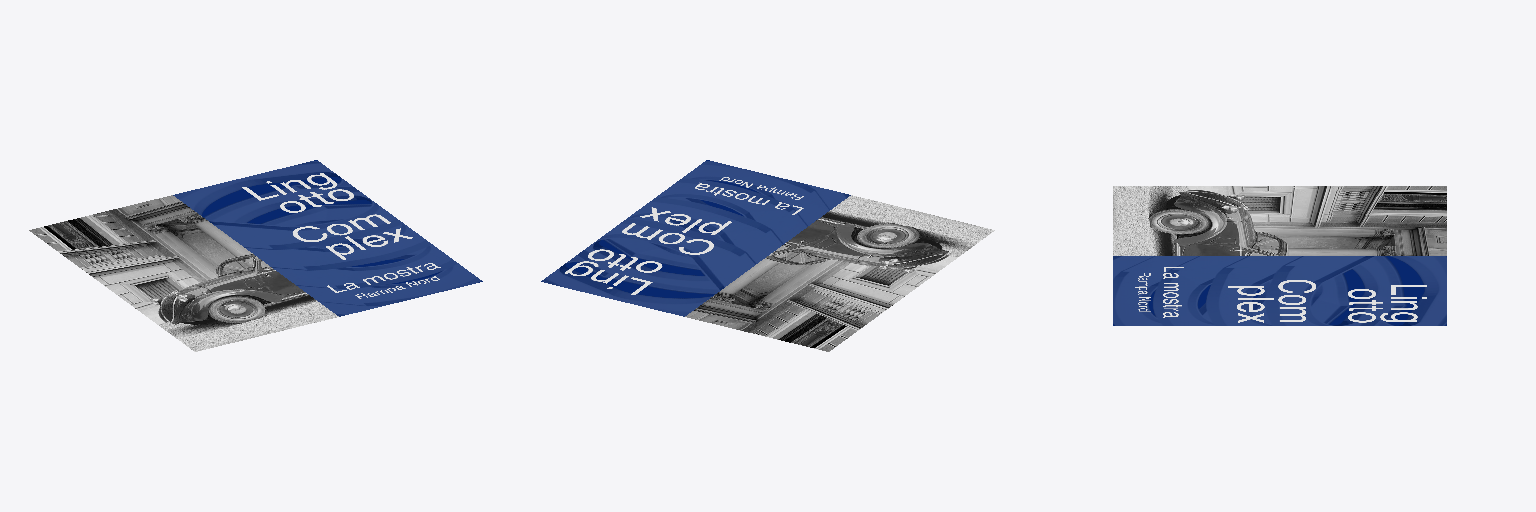
3 views of the same model, side by side, from view 1: azimuth 30°, elevation 25°; view 2: azimuth 150°, elevation 25°; view 3: azimuth 270°, elevation 25° (orthographic).
Visible parts, largest first — view 1: Plane001; view 2: Plane001; view 3: Plane001.
Part boxes in pixels (left/top/right/bottom): Plane001: left=29, top=160, right=482, bottom=351; Plane001: left=541, top=160, right=994, bottom=351; Plane001: left=1113, top=186, right=1446, bottom=325.
Bounding box in the file's own units: 39.37 × 0 × 39.37.
Materials: 1 (1 with a texture image).